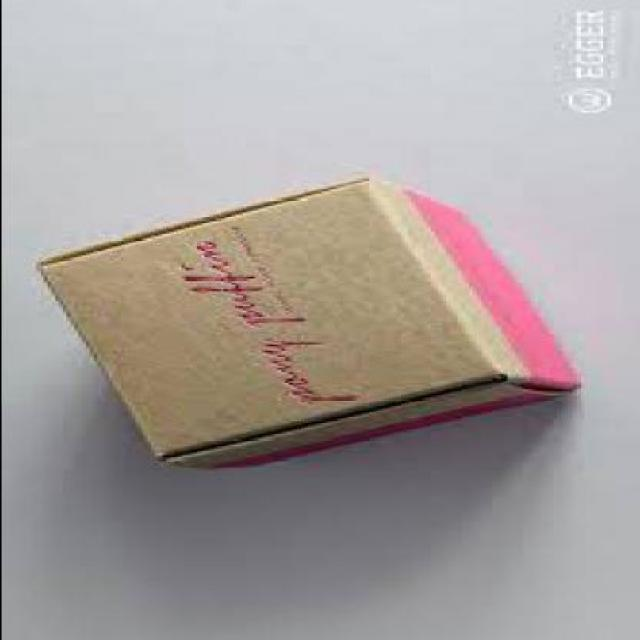box: (31, 180, 575, 472)
